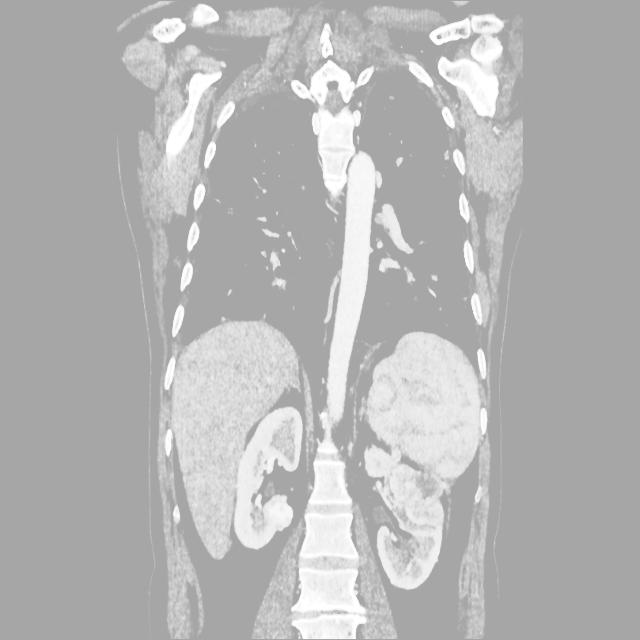TUMOR: (136, 219, 574, 566)
